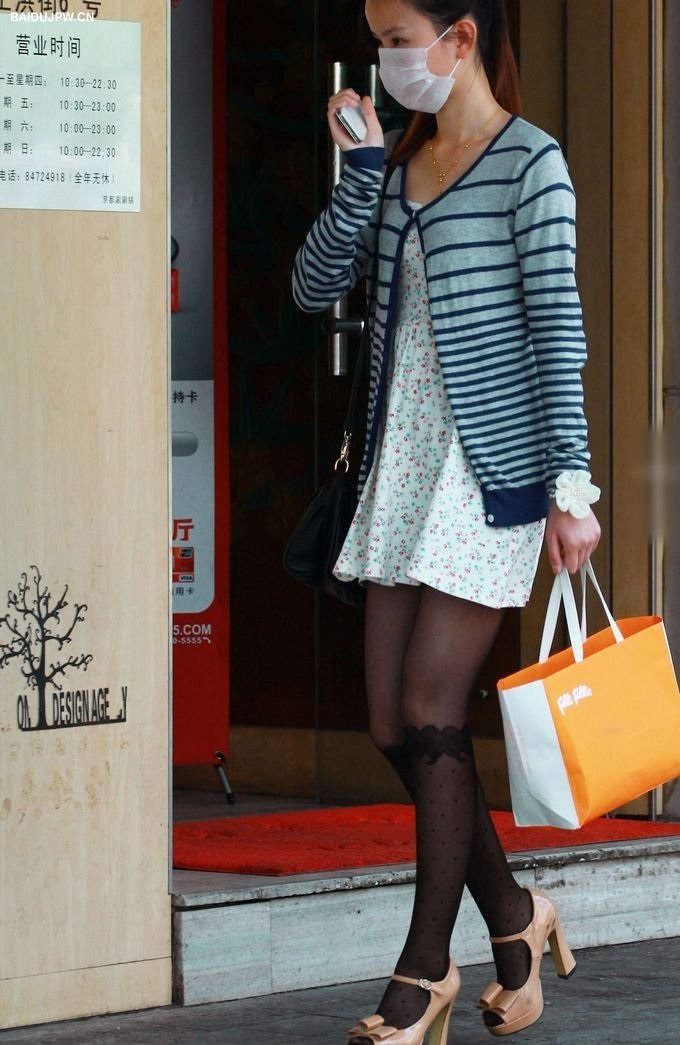face_mask: (365, 1, 452, 112)
